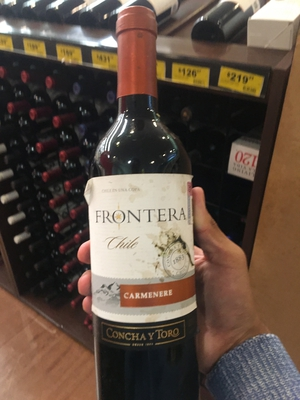frontera carmenere: (78, 20, 231, 400)
